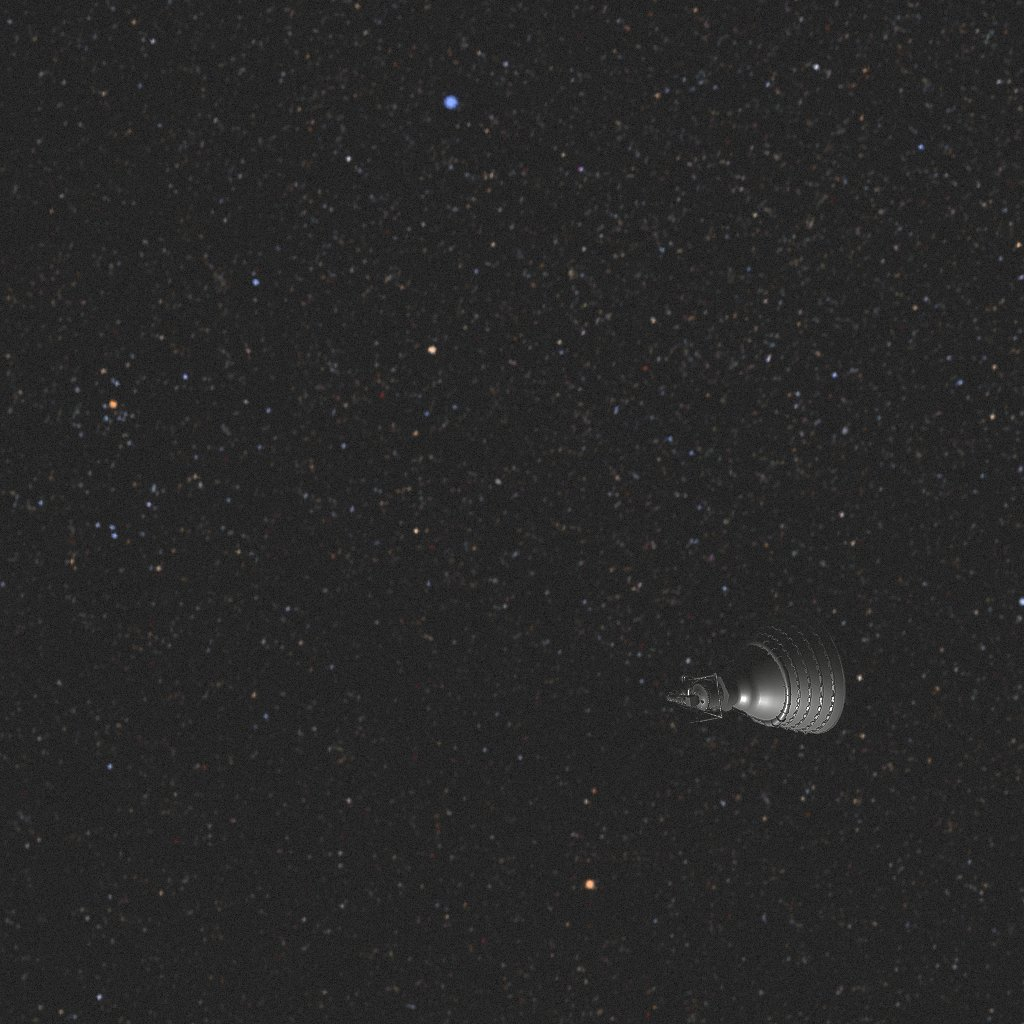debris: (666, 606, 846, 734)
